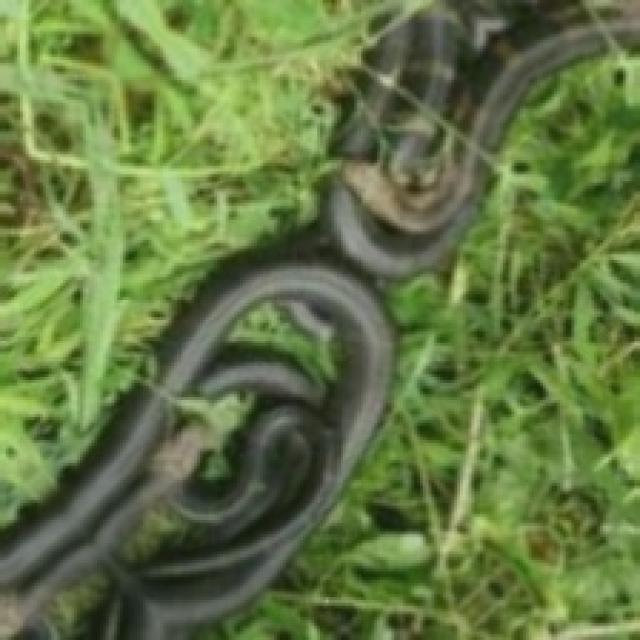king cobra: (1, 4, 639, 640)
